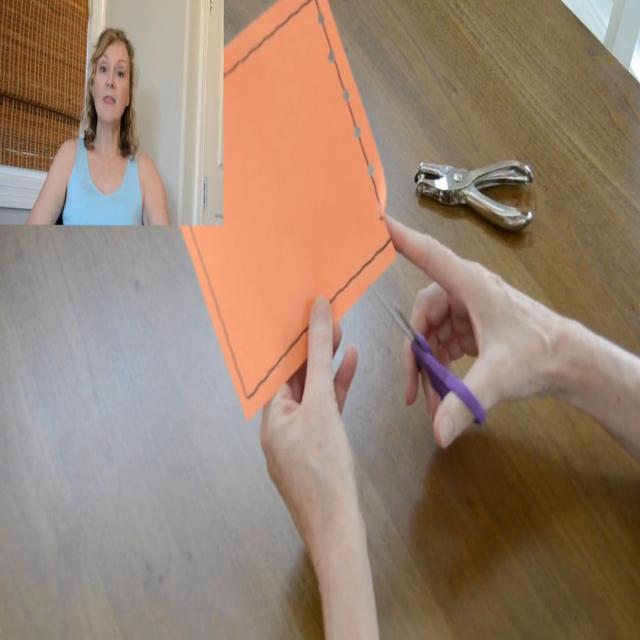scissor: (372, 286, 486, 426)
